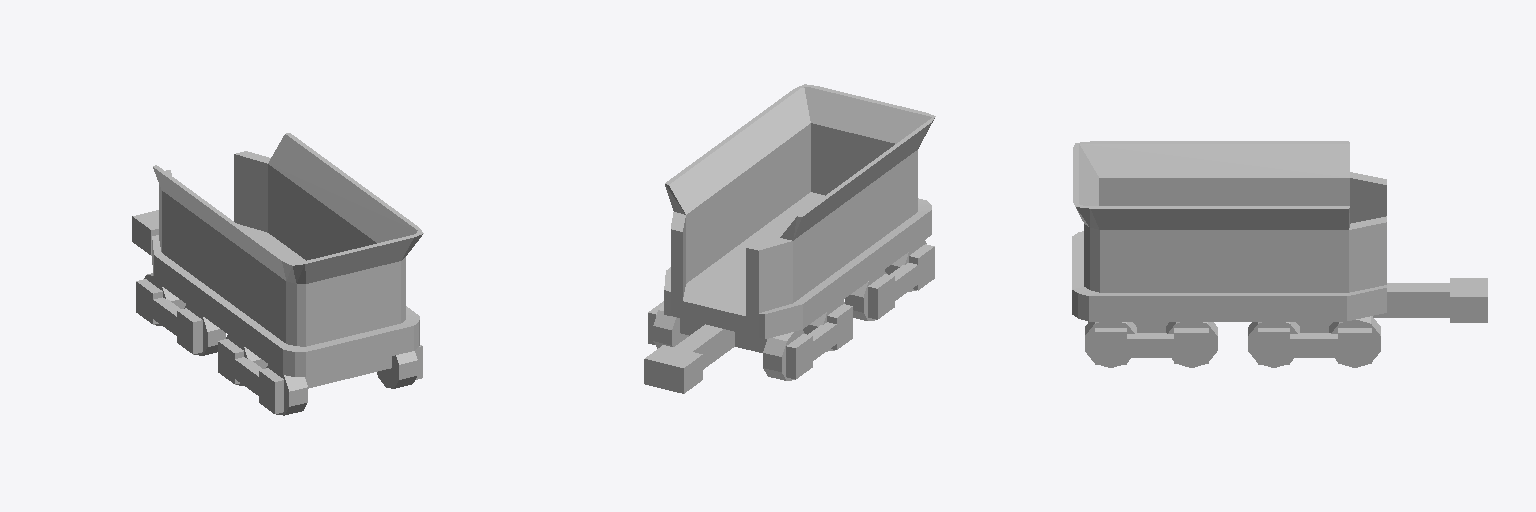
File: Train Cole Car.obj
The picture shows the model from 3 angles: view 1: azimuth 30°, elevation 25°; view 2: azimuth 150°, elevation 25°; view 3: azimuth 270°, elevation 25°; orthographic projection.
Parts seen in each view (by area): view 1: pCube8, pCube9, pCube32, pCylinder53, pCube14, pCylinder50, pCube13, pCylinder48; view 2: pCube8, pCube13, pCube32, pCube9, pCylinder18, pCylinder51, pCylinder49; view 3: pCube8, pCube13, pCube34, pCube33, pCylinder51, pCylinder53, pCylinder52, pCylinder54.
Boxes of the visible parts, <box> form: pCube8: <box>152,133,423,376</box>; pCube9: <box>136,279,202,354</box>; pCube32: <box>218,339,283,413</box>; pCylinder53: <box>377,351,417,388</box>; pCube14: <box>305,356,391,388</box>; pCylinder50: <box>266,364,307,415</box>; pCube13: <box>132,210,186,304</box>; pCylinder48: <box>184,305,225,355</box>; pCube8: <box>664,84,935,338</box>; pCube13: <box>644,318,766,393</box>; pCube32: <box>868,244,934,319</box>; pCube9: <box>786,304,852,379</box>; pCylinder18: <box>763,330,804,380</box>; pCylinder51: <box>653,303,688,348</box>; pCylinder49: <box>845,270,886,320</box>; pCube8: <box>1072,141,1386,321</box>; pCube13: <box>1296,278,1487,332</box>; pCube34: <box>1095,328,1208,364</box>; pCube33: <box>1258,328,1371,364</box>; pCylinder51: <box>1329,316,1380,367</box>; pCylinder53: <box>1085,322,1136,367</box>; pCylinder52: <box>1248,322,1299,367</box>; pCylinder54: <box>1166,322,1217,367</box>.
Bounding box in the file's own units: 7.22 × 7.56 × 17.56.